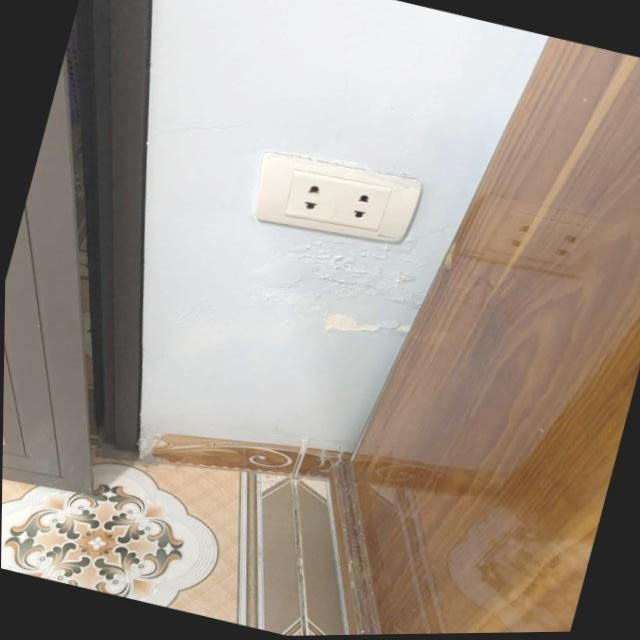outlet: (245, 140, 425, 259)
